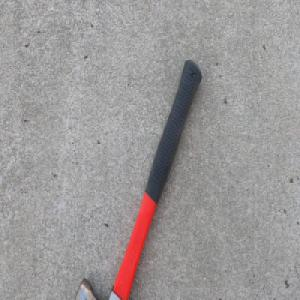Hammer: (73, 56, 204, 300)
